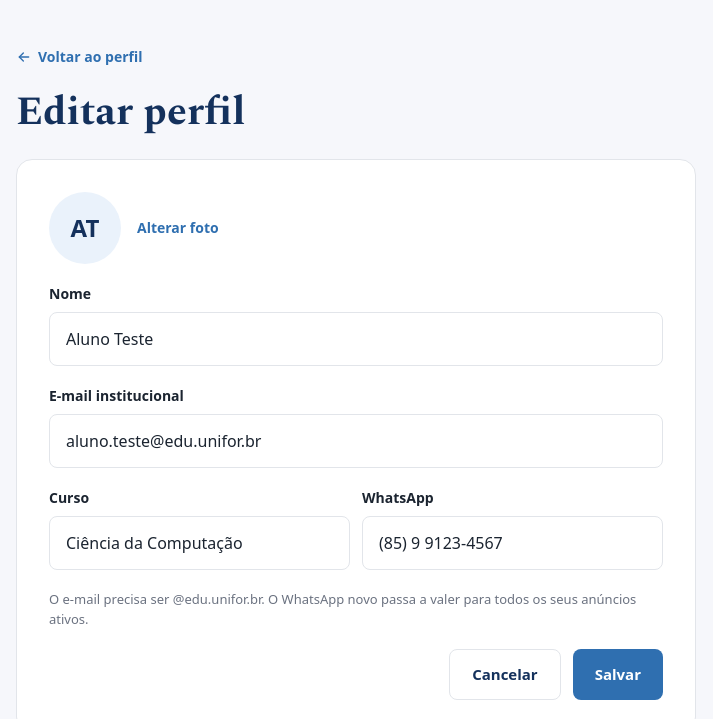
Test: Editar perfil (05b) › valida os campos antes de salvar
The width and height of the screenshot is (713, 719).
Clear the field labelled "Nome" at point(356, 339), box [49, 312, 663, 366]
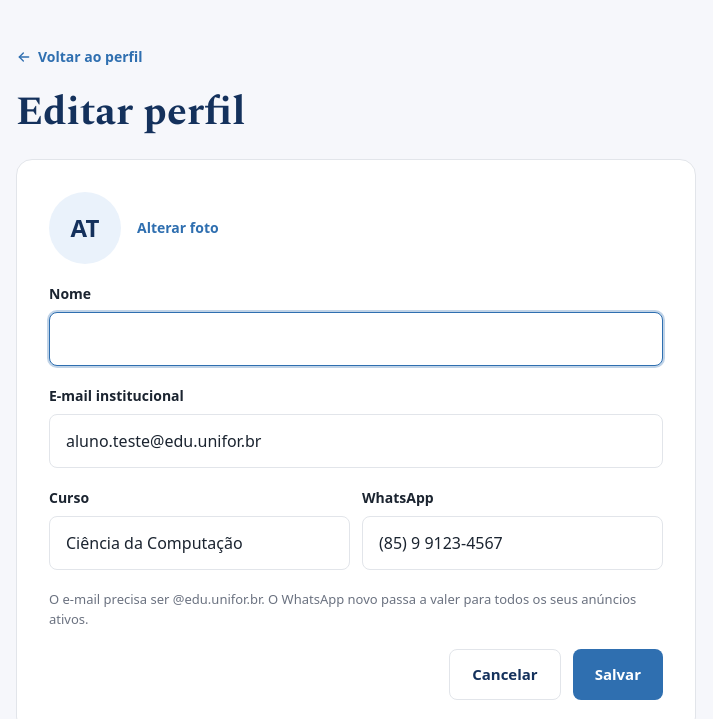
Type "123" into the field labelled "WhatsApp" at point(512, 543), box [362, 516, 663, 570]
(page scrolled)
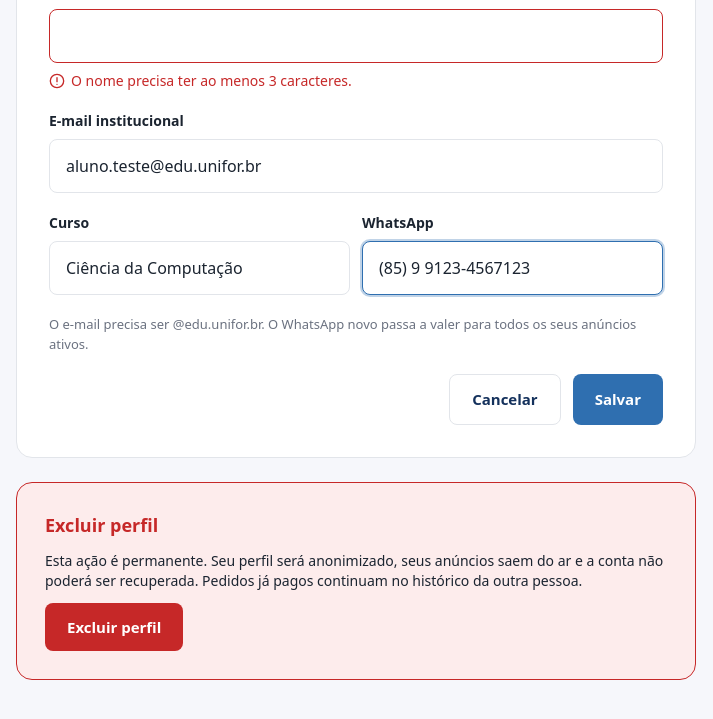
Click the button "Salvar" at point(618, 400), box [573, 374, 663, 425]
(page scrolled)
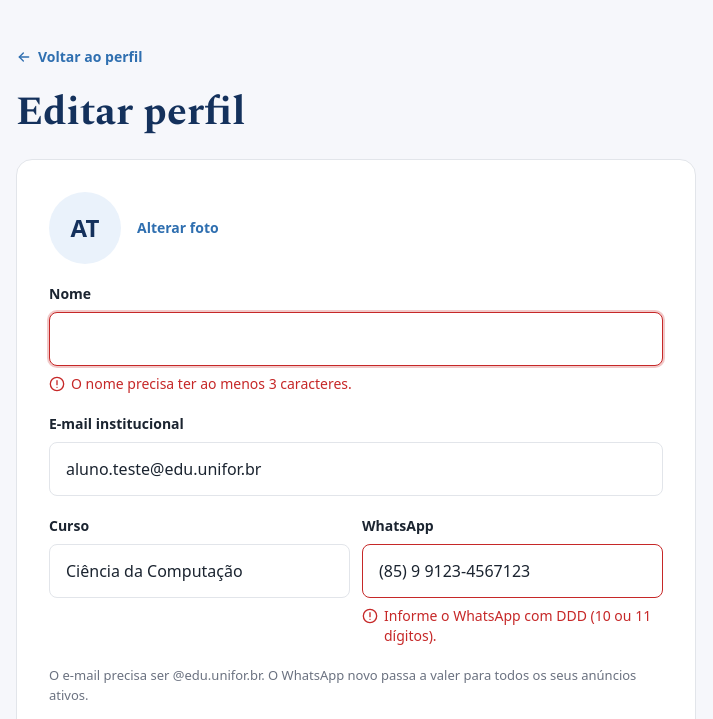
Now the text "O nome precisa ter ao menos 3 caracteres." is shown, box [71, 374, 352, 394]
Now the text "Informe o WhatsApp com DDD (10 ou 11 dígitos)." is shown, box [384, 606, 663, 646]
